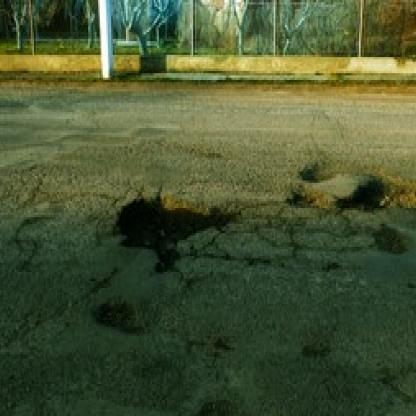pothole: (118, 190, 236, 274), (341, 176, 416, 215), (96, 297, 144, 338), (376, 226, 407, 256), (302, 160, 339, 183), (287, 190, 328, 210), (0, 103, 31, 114)
